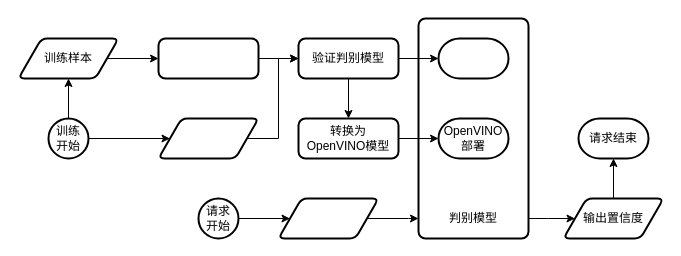
This 681x256 diagram has some shape labels left out. Here are the shapes that lost their labels. From the top down, the centre of each, then its label:
the point at 208,58: 训练判别模型
the point at 473,58: PyTorch 部署
the point at 208,138: 测试样本
the point at 328,218: 输入图片
